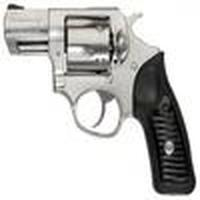gun: (6, 4, 194, 198)
